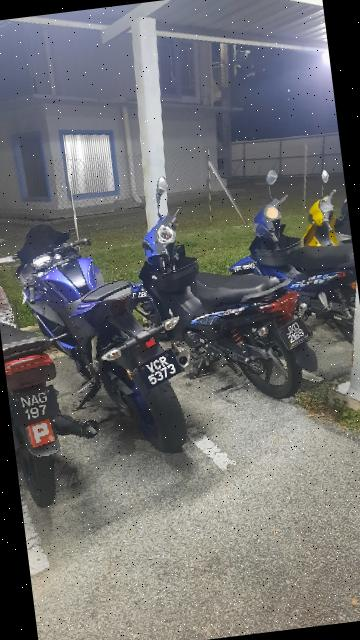License_Plate: (10, 382, 78, 434), (127, 338, 184, 393), (280, 308, 319, 354)
motorcycle: (1, 204, 203, 468), (124, 167, 315, 418), (221, 152, 360, 349)
